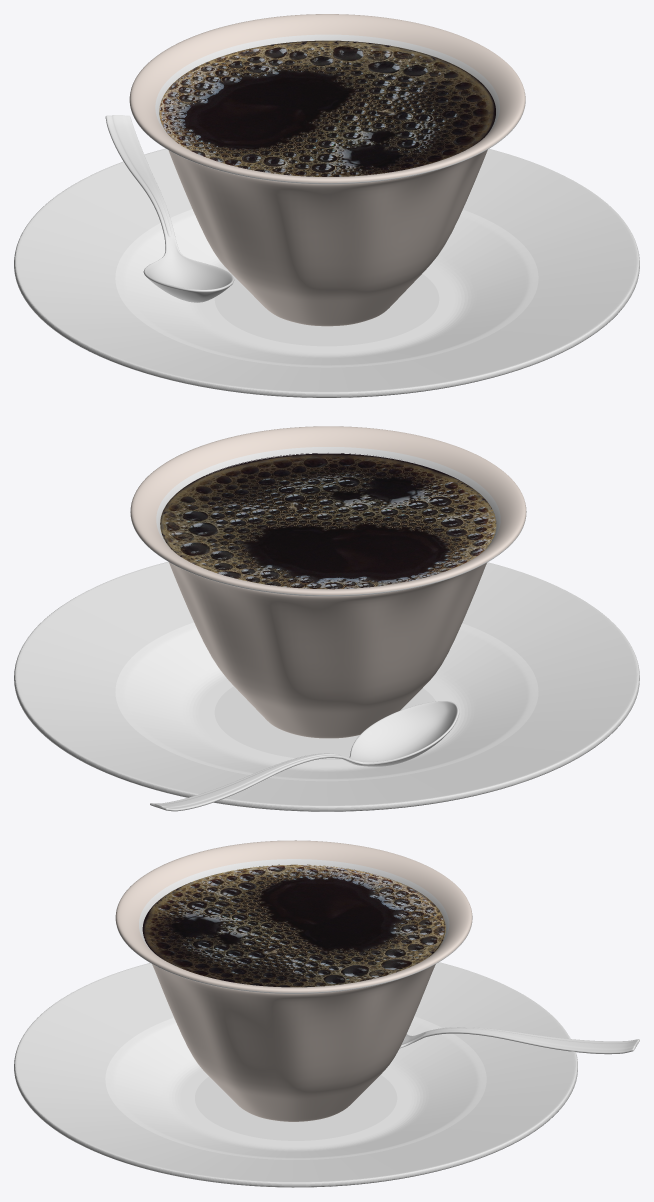
The model's file is cini new.fbx.
The picture shows the model from 3 angles, top to bottom: view 1: azimuth 30°, elevation 25°; view 2: azimuth 150°, elevation 25°; view 3: azimuth 270°, elevation 25°; orthographic projection. The views are drawn at different scales.
Visible parts, largest first — view 1: base 3, cup 3, Cup.003, spoon 3; view 2: base 3, cup 3, Cup.003, spoon 3; view 3: base 3, cup 3, Cup.003, spoon 3.
Boxes of the visible parts, bbox=[...] form: base 3: bbox=[14, 148, 639, 397]; cup 3: bbox=[129, 14, 525, 326]; Cup.003: bbox=[159, 40, 495, 176]; spoon 3: bbox=[105, 115, 234, 302]; base 3: bbox=[14, 561, 639, 811]; cup 3: bbox=[130, 426, 526, 738]; Cup.003: bbox=[160, 453, 496, 589]; spoon 3: bbox=[150, 701, 459, 811]; base 3: bbox=[14, 962, 577, 1187]; cup 3: bbox=[115, 840, 472, 1121]; Cup.003: bbox=[142, 864, 445, 987]; spoon 3: bbox=[400, 1027, 639, 1054].
Bounding box in the file's own units: 7.64 × 2.81 × 8.47.
